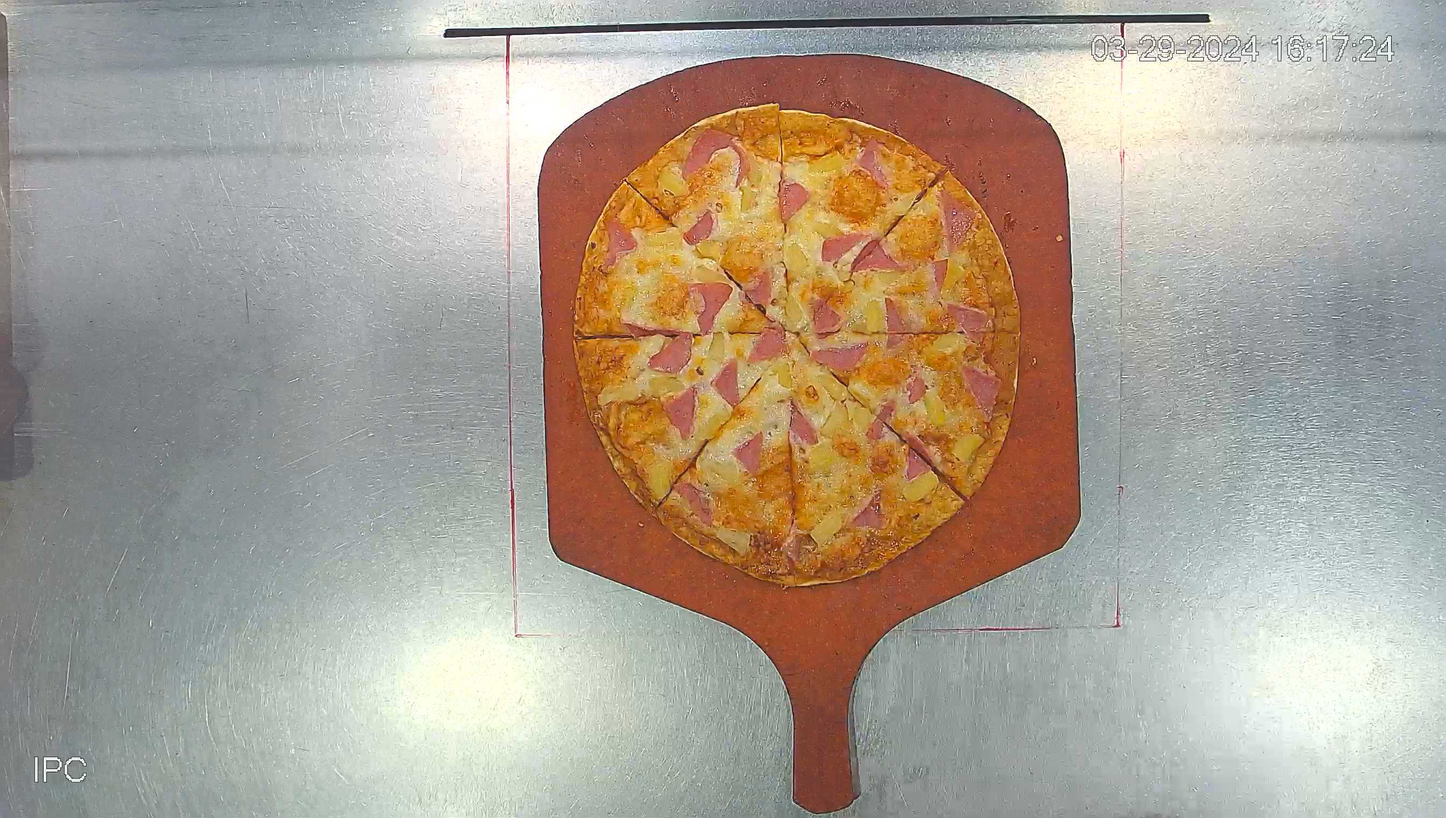manager_choice: (570, 104, 1022, 587)
